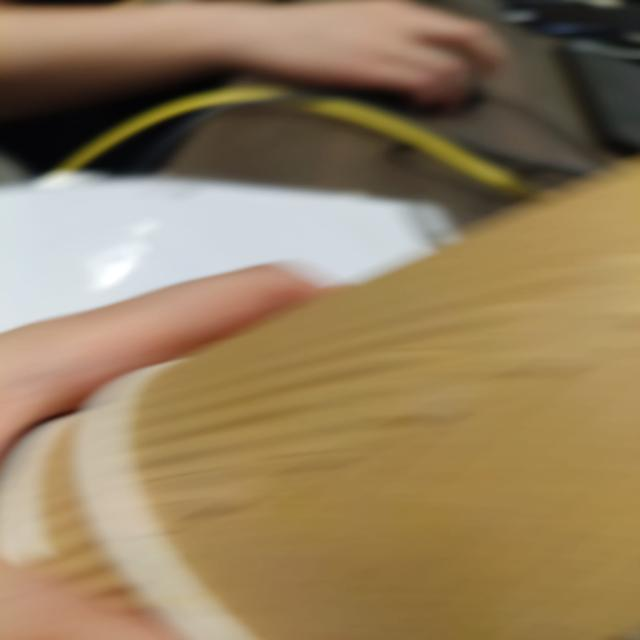Browncup: (79, 171, 633, 638), (1, 415, 160, 638)
